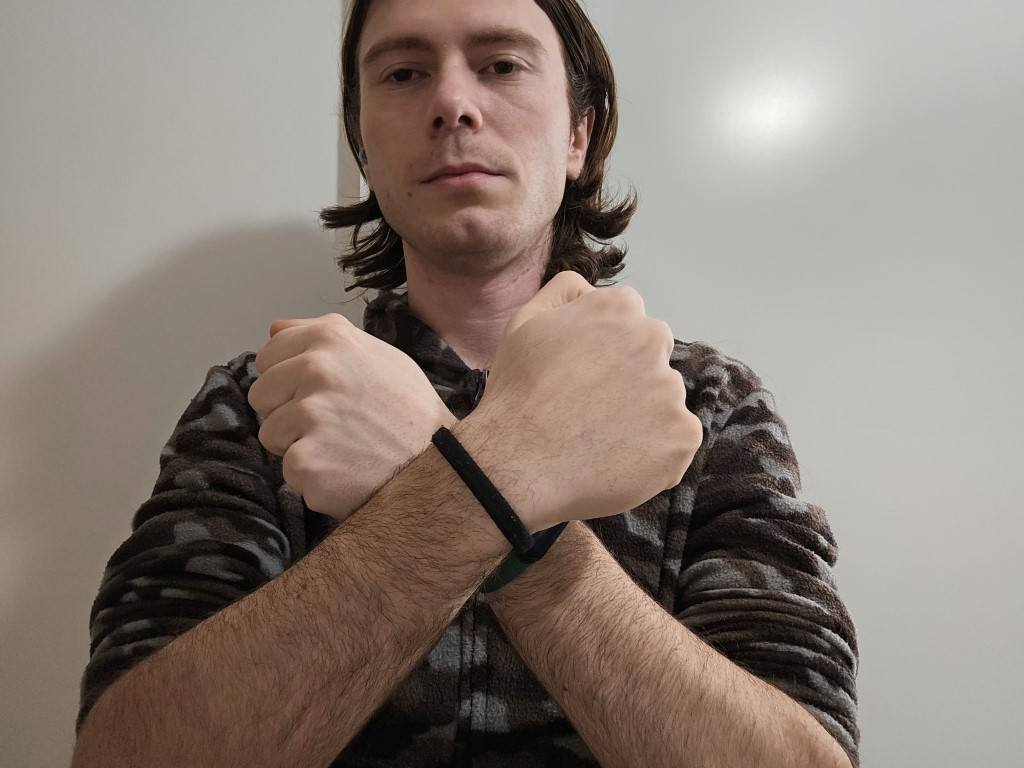del: (230, 244, 742, 628)
